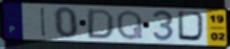0: (50, 6, 81, 40)
3: (151, 8, 176, 44)
D: (177, 10, 209, 44), (85, 8, 116, 40)
I: (40, 6, 47, 38)
Q: (116, 9, 145, 41)
